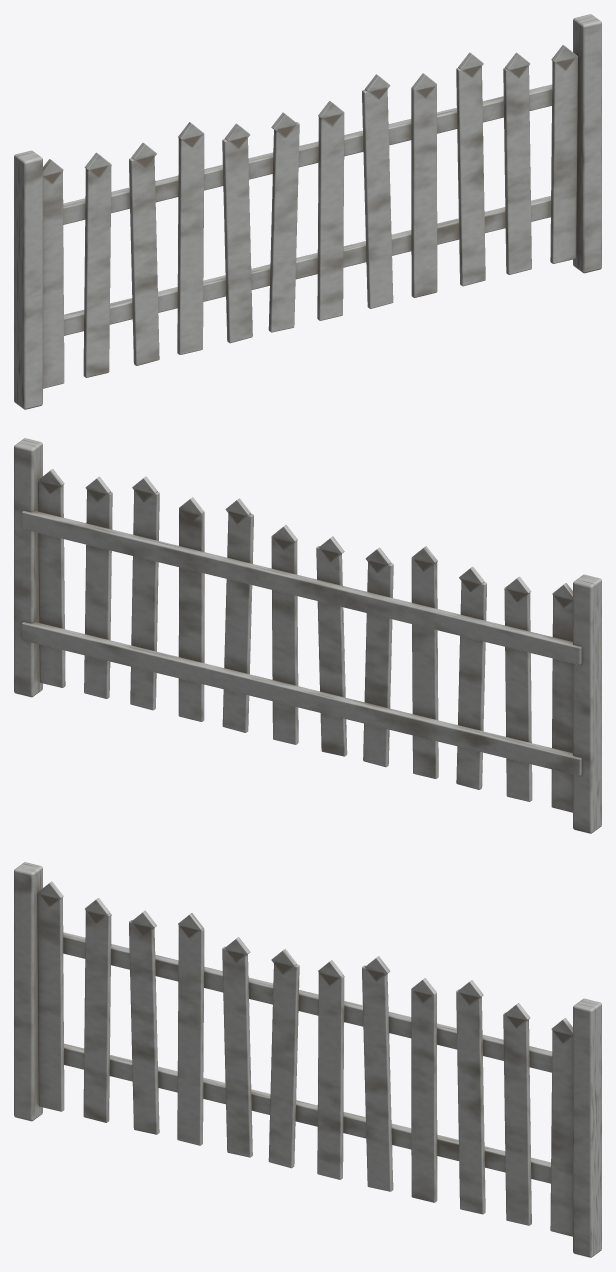
The model's file is pod_plotek.glb.
3 views of the same model, one above another, from view 1: azimuth 30°, elevation 25°; view 2: azimuth 150°, elevation 25°; view 3: azimuth 330°, elevation 25° (orthographic).
Visible parts, largest first — view 1: TintFarba; view 2: TintFarba; view 3: TintFarba.
Boxes of the visible parts, bbox=[...] form: TintFarba: bbox=[14, 14, 601, 409]; TintFarba: bbox=[14, 438, 601, 833]; TintFarba: bbox=[14, 862, 601, 1257].
Size of the model in its own units: 2.07 by 0.85 by 0.08.
1 material, 1 textured.
